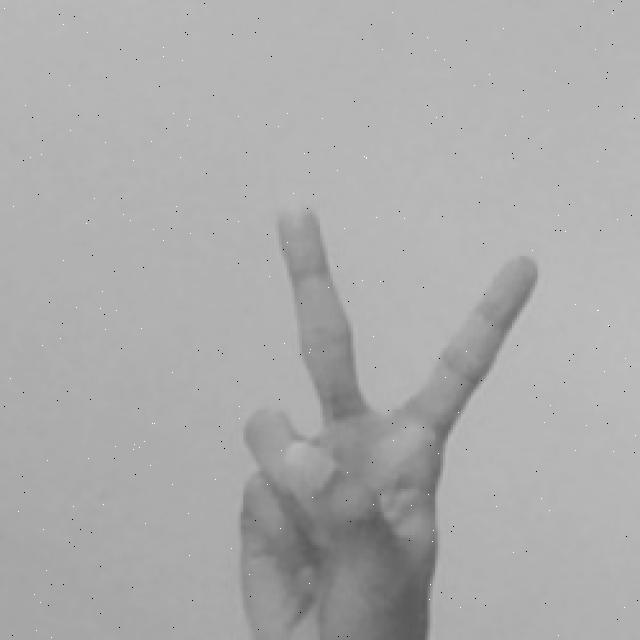V: (230, 192, 547, 640)
